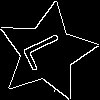L: (22, 27, 76, 72)
